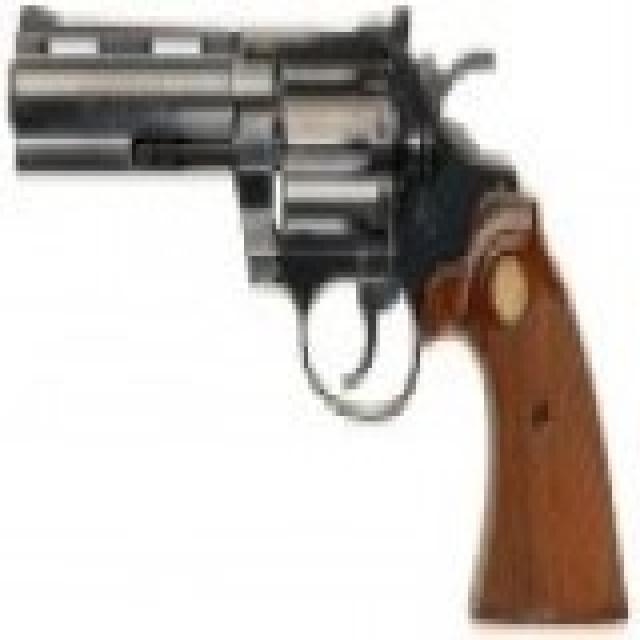Gun: (10, 3, 631, 624)
